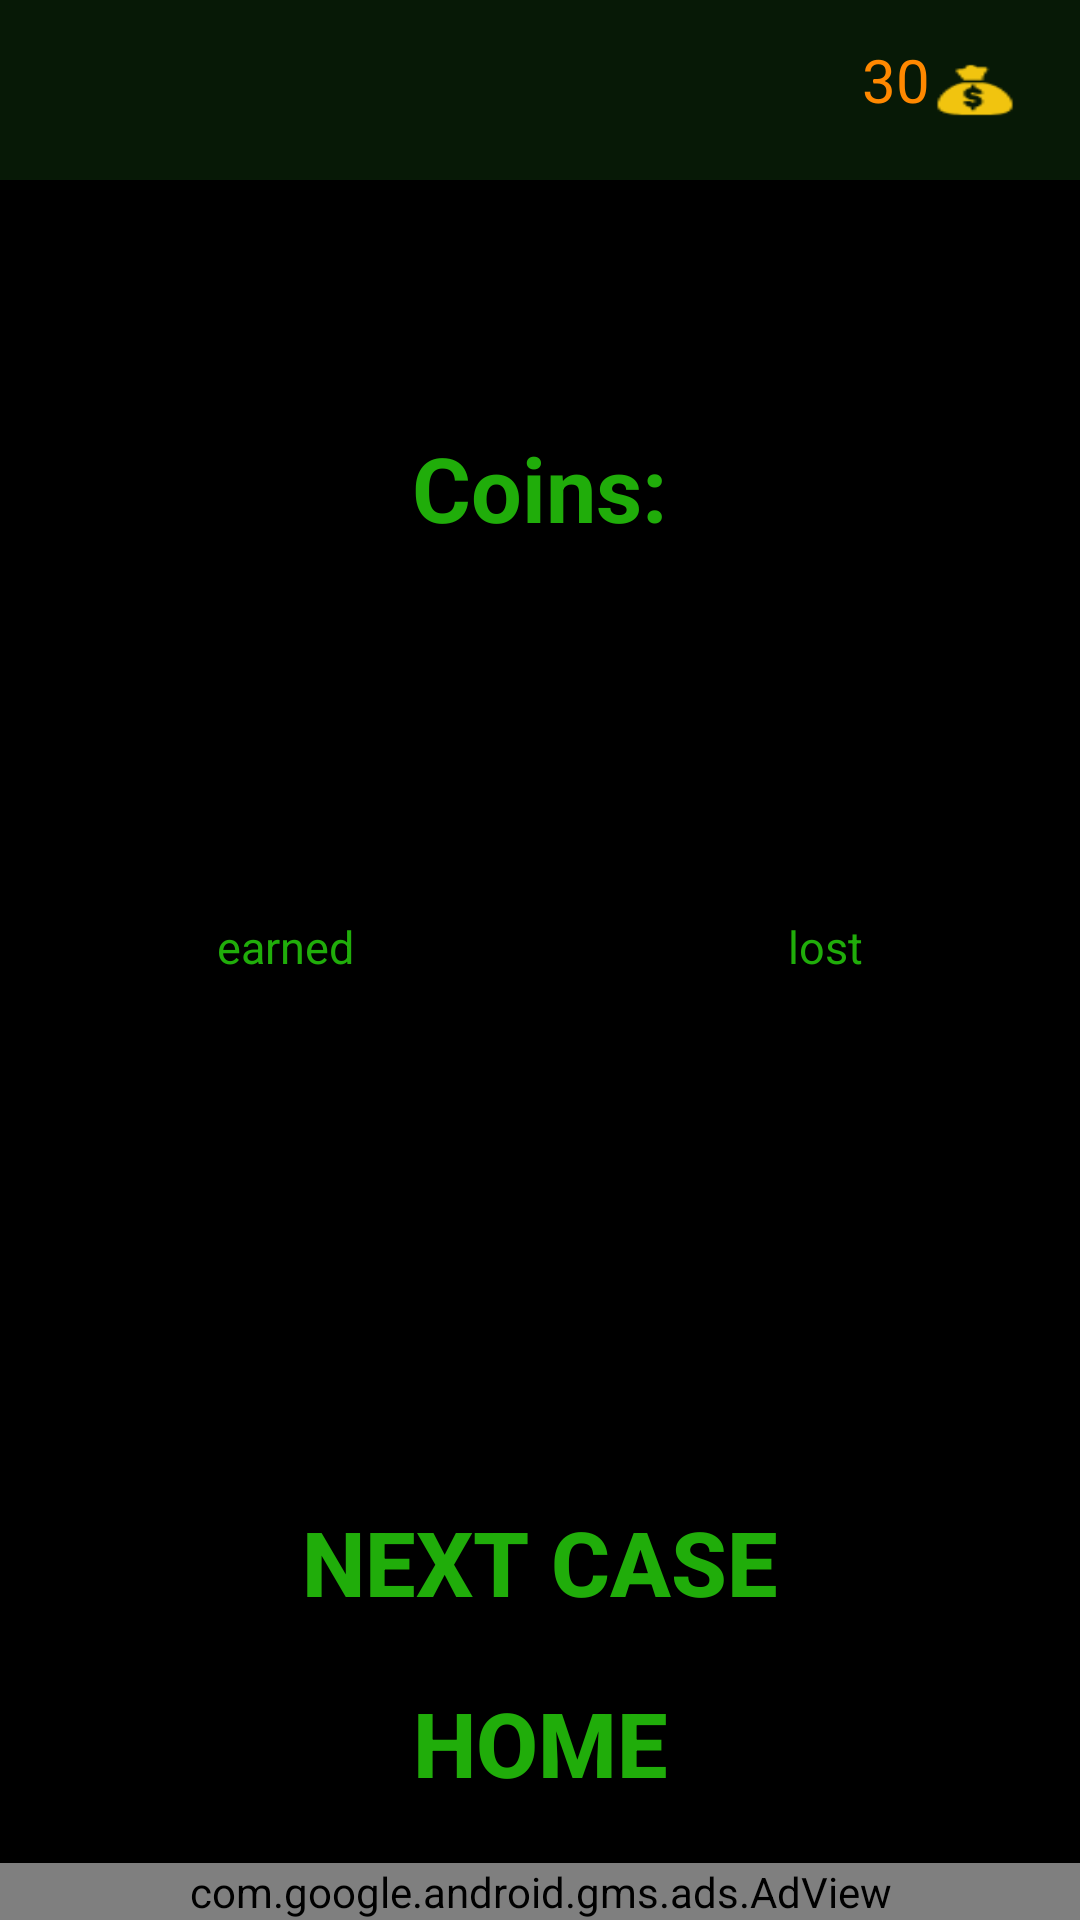

Icons on this 1080px×1920px Android screen, each with the point to tap as (x,y):
moneyyellow: (975,90)
